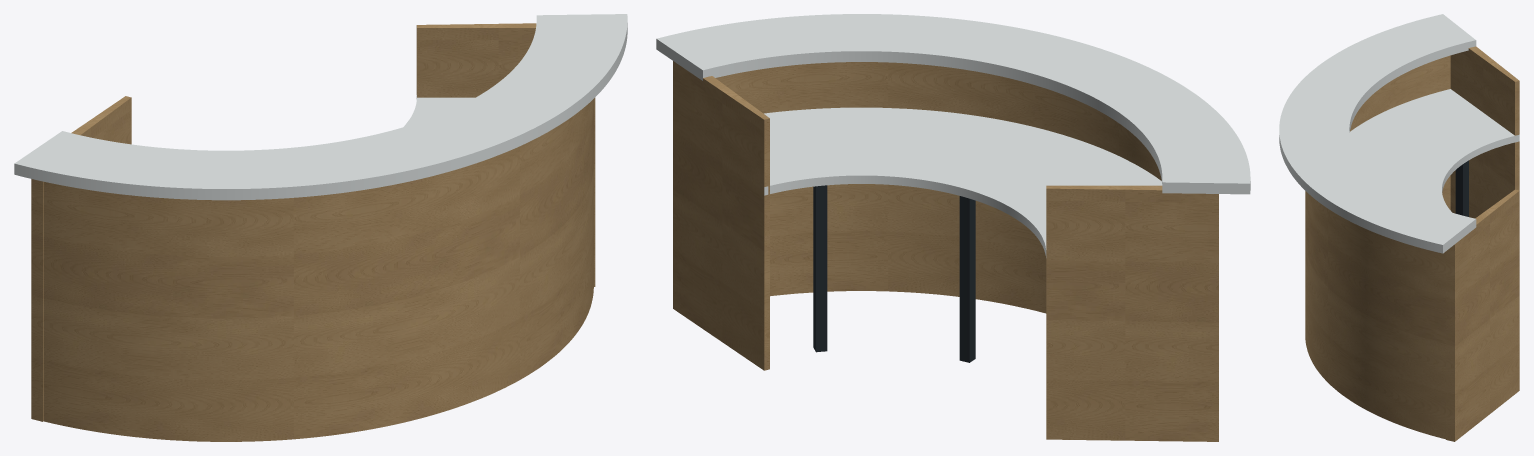
File: detail_reception.glb
The picture shows the model from 3 angles, left to right: view 1: azimuth 30°, elevation 25°; view 2: azimuth 150°, elevation 25°; view 3: azimuth 270°, elevation 25°; orthographic projection. The views are drawn at different scales.
Visible parts, largest first — view 1: Continuous curved reception fascia, Continuous public transaction top; view 2: Continuous curved reception fascia, Continuous public transaction top, Staff worktop floor post 1; view 3: Continuous curved reception fascia, Continuous public transaction top, Staff worktop floor post 1.
Part boxes in pixels (box(x1,y1,x2,y2)): Continuous curved reception fascia: box(31, 23, 595, 441); Continuous public transaction top: box(14, 14, 627, 200); Continuous curved reception fascia: box(673, 61, 1218, 441); Continuous public transaction top: box(656, 14, 1250, 257); Staff worktop floor post 1: box(813, 185, 975, 362); Continuous curved reception fascia: box(1305, 46, 1519, 441); Continuous public transaction top: box(1279, 14, 1519, 253); Staff worktop floor post 1: box(1455, 160, 1468, 216).
Size of the model in its own units: 2.6 by 1.08 by 1.14.
3 materials, 3 textured.
